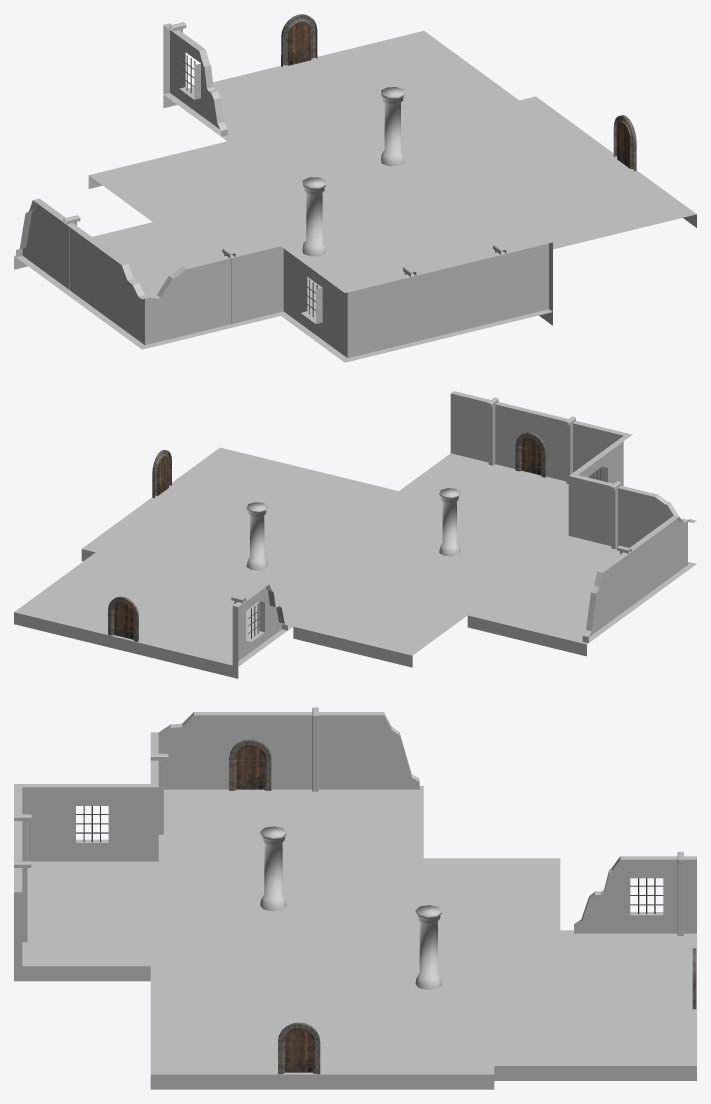
Rendered from def004_room.fbx.
The picture shows the model from 3 angles, top to bottom: view 1: azimuth 30°, elevation 25°; view 2: azimuth 150°, elevation 25°; view 3: azimuth 270°, elevation 25°; orthographic projection. The views are drawn at different scales.
Parts seen in each view (by area): view 1: def004_floor, wall004_3, pillar_002.009, pillar_002.010, def004_door_wood_4, def004_door_stone_4, def004_door_stone_3, def004_door_wood_3; view 2: def004_floor, wall004_3, pillar_002.010, pillar_002.009, def004_door_wood_4, def004_door_wood_1, def004_door_stone_4, def004_door_stone_1, pillar_001.023, pillar_001.025; view 3: def004_floor, wall004_3, pillar_002.010, pillar_002.009, def004_door_wood_2, def004_door_wood_3, def004_door_stone_2, def004_door_stone_3, pillar_001.025, pillar_001.026, pillar_001.027.
Part boxes in pixels (<box>): def004_floor: <box>14,31,696,362</box>; wall004_3: <box>16,23,552,358</box>; pillar_002.009: <box>302,177,326,256</box>; pillar_002.010: <box>381,87,404,166</box>; def004_door_wood_4: <box>288,21,311,65</box>; def004_door_stone_4: <box>281,14,317,66</box>; def004_door_stone_3: <box>613,115,636,171</box>; def004_door_wood_3: <box>617,122,630,168</box>; def004_floor: <box>14,447,696,678</box>; wall004_3: <box>232,391,696,666</box>; pillar_002.010: <box>246,502,267,570</box>; pillar_002.009: <box>439,488,460,556</box>; def004_door_wood_4: <box>114,602,133,639</box>; def004_door_wood_1: <box>521,438,540,475</box>; def004_door_stone_4: <box>108,596,138,641</box>; def004_door_stone_1: <box>515,432,546,477</box>; pillar_001.023: <box>487,397,498,465</box>; pillar_001.025: <box>609,481,621,549</box>; def004_floor: <box>14,786,696,1089</box>; wall004_3: <box>14,712,696,966</box>; pillar_002.010: <box>415,905,441,989</box>; pillar_002.009: <box>260,826,286,911</box>; def004_door_wood_2: <box>236,746,264,789</box>; def004_door_wood_3: <box>285,1029,312,1072</box>; def004_door_stone_2: <box>229,739,271,790</box>; def004_door_stone_3: <box>278,1022,320,1074</box>; pillar_001.025: <box>150,753,168,834</box>; pillar_001.026: <box>312,707,318,791</box>; pillar_001.027: <box>677,851,683,935</box>.
Size of the model in its own units: 4172 by 629 by 4172.
